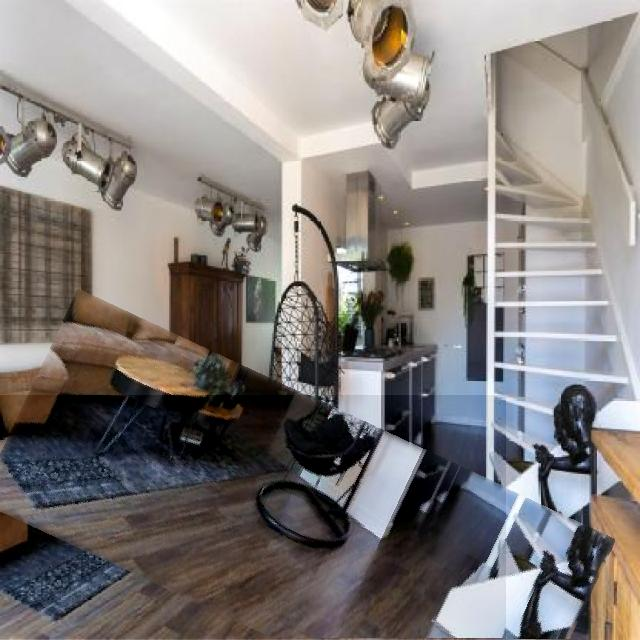floor: (0, 396, 506, 639)
